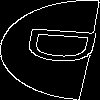D: (25, 25, 100, 67)
